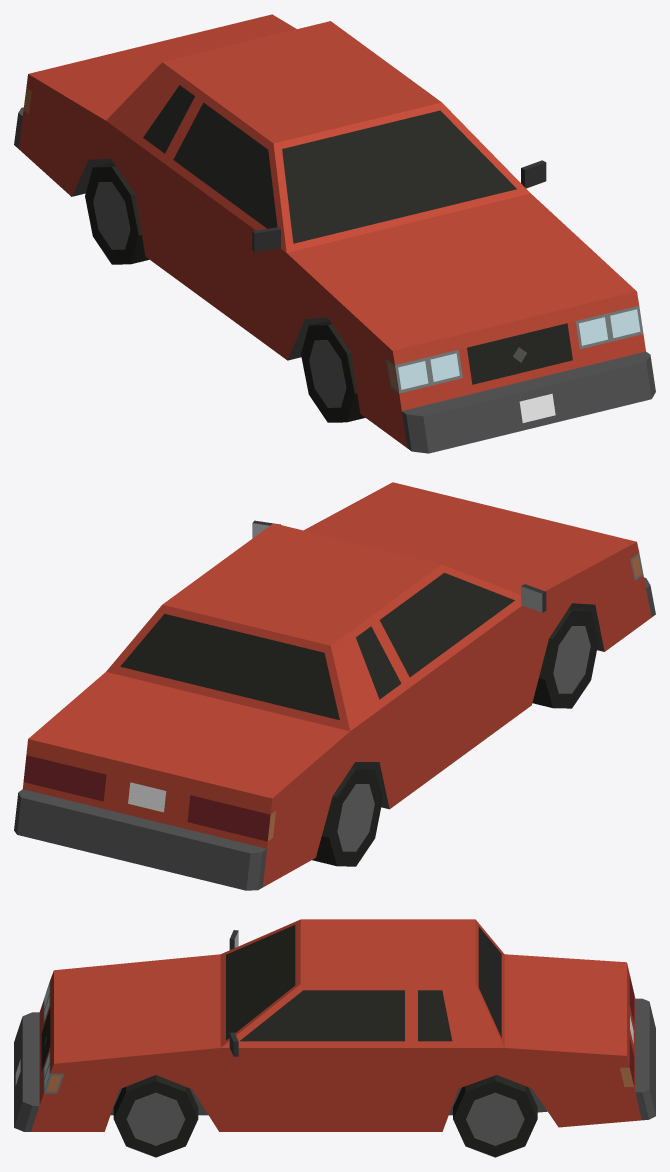
File: Veh_Coupe_03_Red.glb
The picture shows the model from 3 angles, top to bottom: view 1: azimuth 30°, elevation 25°; view 2: azimuth 150°, elevation 25°; view 3: azimuth 270°, elevation 25°; orthographic projection. The views are drawn at different scales.
Parts seen in each view (by area): view 1: Coupe_03_Red, Wheel_RR, Wheel_FR; view 2: Coupe_03_Red, Wheel_RR, Wheel_FR; view 3: Coupe_03_Red, Wheel_RL, Wheel_FL.
Part boxes in pixels (x1,y1,x2,y2): Coupe_03_Red: (14, 14, 655, 453); Wheel_RR: (85, 162, 149, 264); Wheel_FR: (301, 320, 365, 422); Coupe_03_Red: (14, 482, 655, 890); Wheel_RR: (312, 764, 382, 866); Wheel_FR: (532, 606, 598, 708); Coupe_03_Red: (14, 919, 655, 1131); Wheel_RL: (453, 1075, 537, 1157); Wheel_FL: (113, 1075, 198, 1157).
Bounding box in the file's own units: 1.14 × 0.7543 × 2.76.
Materials: 1 (1 with a texture image).
